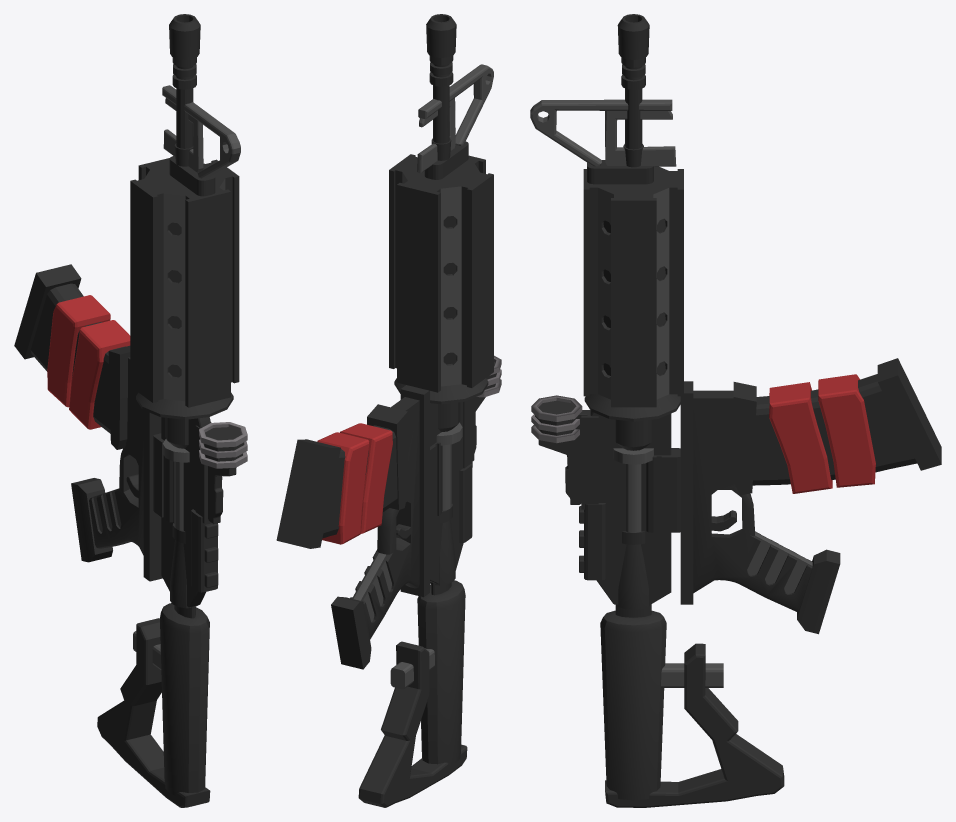
Rendered from Gun1.fbx.
3 views of the same model, side by side, from view 1: azimuth 30°, elevation 25°; view 2: azimuth 150°, elevation 25°; view 3: azimuth 270°, elevation 25° (orthographic). The views are drawn at different scales.
Parts seen in each view (by area): view 1: Cylinder.001; view 2: Cylinder.001; view 3: Cylinder.001.
Part boxes in pixels (left/top/right/bottom): Cylinder.001: left=14, top=14, right=247, bottom=807; Cylinder.001: left=276, top=14, right=501, bottom=807; Cylinder.001: left=530, top=14, right=941, bottom=807.
Bounding box in the file's own units: 7.9 × 68.12 × 32.41.
